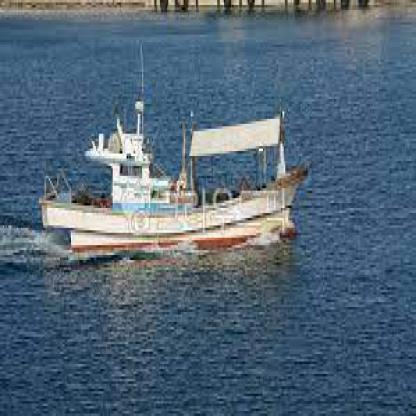fish-b: (25, 62, 317, 270)
